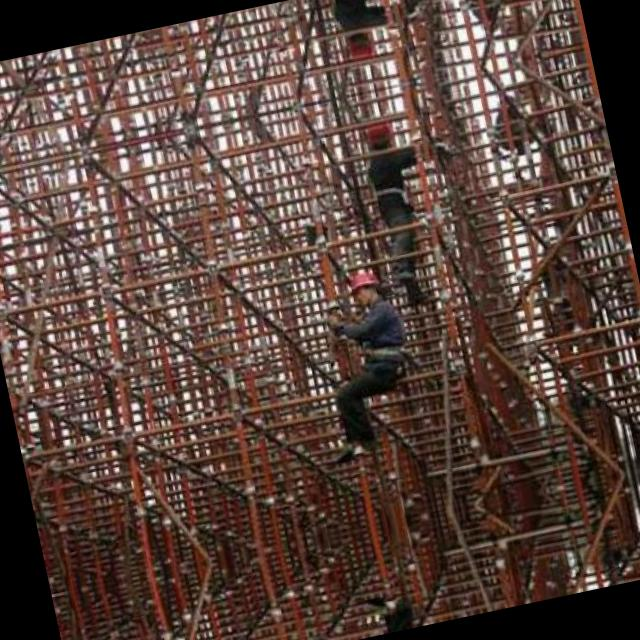helmet: (341, 24, 388, 72), (359, 109, 406, 156), (344, 264, 386, 310)
